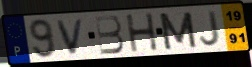9: (28, 17, 56, 59)
B: (93, 14, 126, 56)
H: (124, 12, 160, 54)
J: (198, 10, 221, 48)
M: (157, 10, 199, 51)
V: (55, 17, 86, 56)
